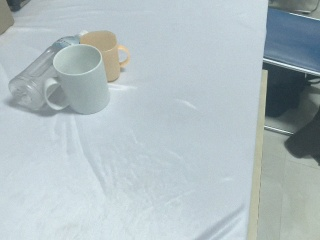bottle: (1, 28, 90, 112)
cup: (43, 44, 111, 115), (79, 30, 131, 82)
